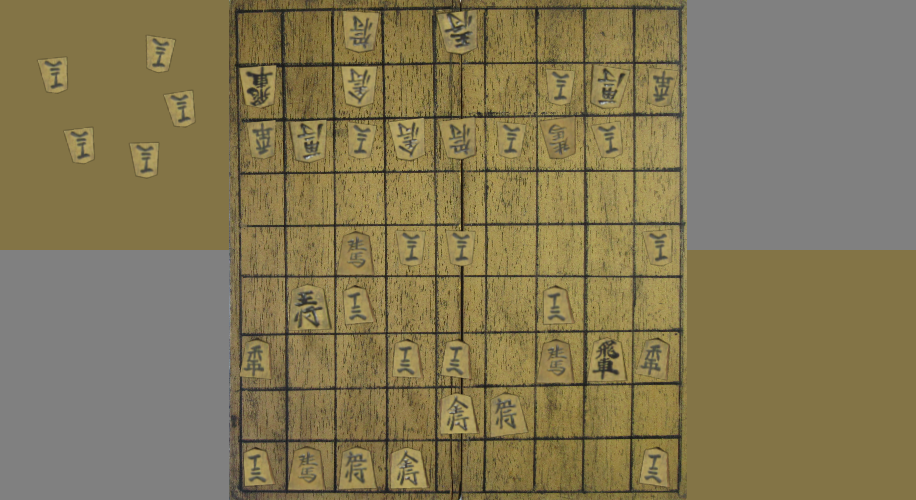A: (290, 285, 329, 329), (589, 339, 625, 382), (491, 394, 527, 436), (391, 449, 427, 488), (340, 448, 375, 488), (339, 232, 372, 274), (290, 448, 323, 490), (538, 341, 571, 382), (441, 395, 476, 433), (543, 286, 573, 325), (638, 340, 667, 378), (344, 286, 373, 323), (241, 341, 270, 378), (640, 449, 668, 487), (244, 449, 273, 485), (393, 341, 421, 377), (443, 341, 469, 378)
B: (438, 12, 476, 53), (592, 66, 629, 108), (290, 121, 327, 162), (241, 66, 276, 107), (390, 119, 424, 160), (344, 12, 378, 52), (441, 119, 475, 158), (542, 119, 575, 158), (344, 67, 375, 107), (593, 122, 622, 157), (649, 69, 676, 106), (248, 122, 275, 158), (397, 231, 425, 265), (348, 123, 375, 158), (547, 70, 574, 105), (498, 123, 525, 158), (448, 232, 474, 266), (645, 232, 671, 265)
D: (165, 91, 194, 126), (65, 128, 94, 163), (147, 36, 175, 72), (130, 143, 158, 178), (39, 58, 66, 93)
